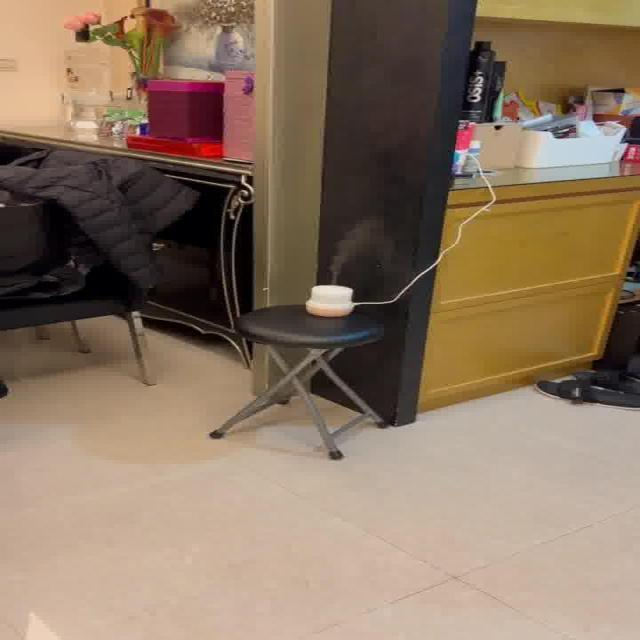fire: (328, 219, 396, 281)
